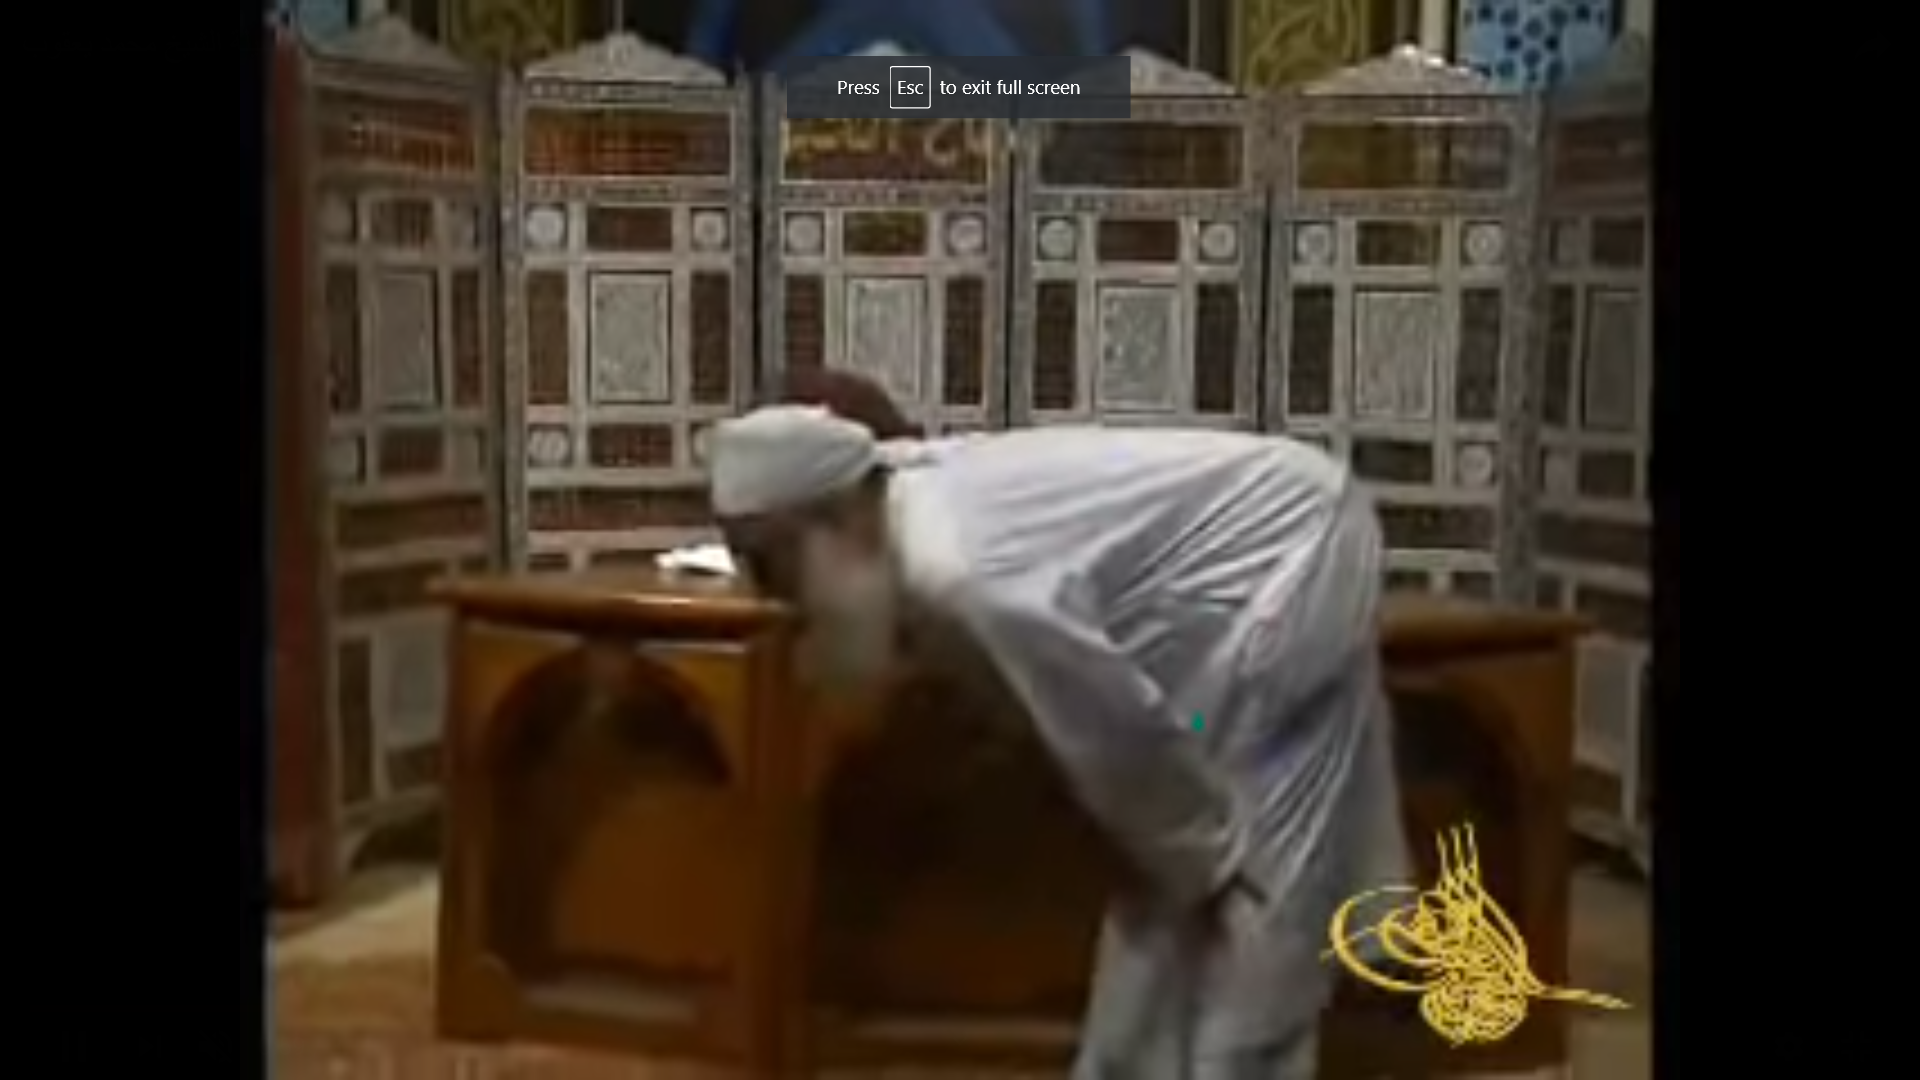ruku: (547, 326, 1563, 1080)
